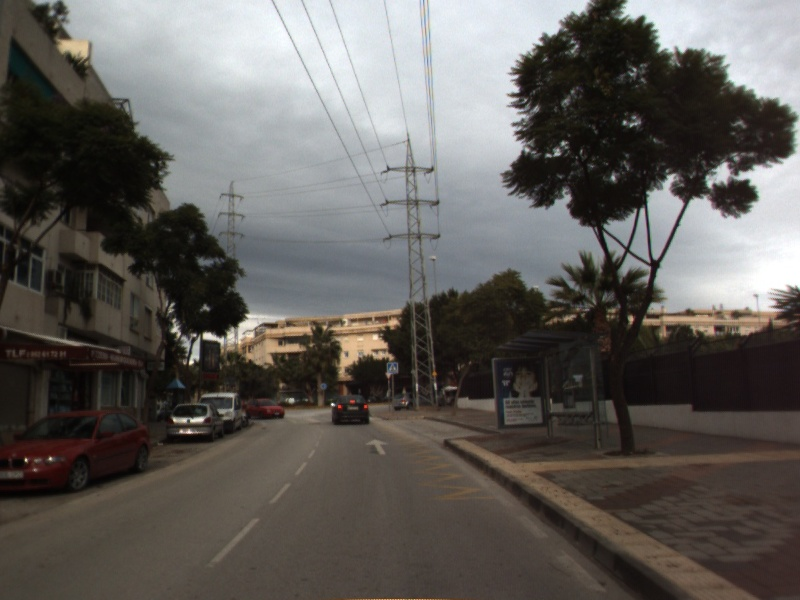STRAIGHT: (363, 436, 393, 457)
